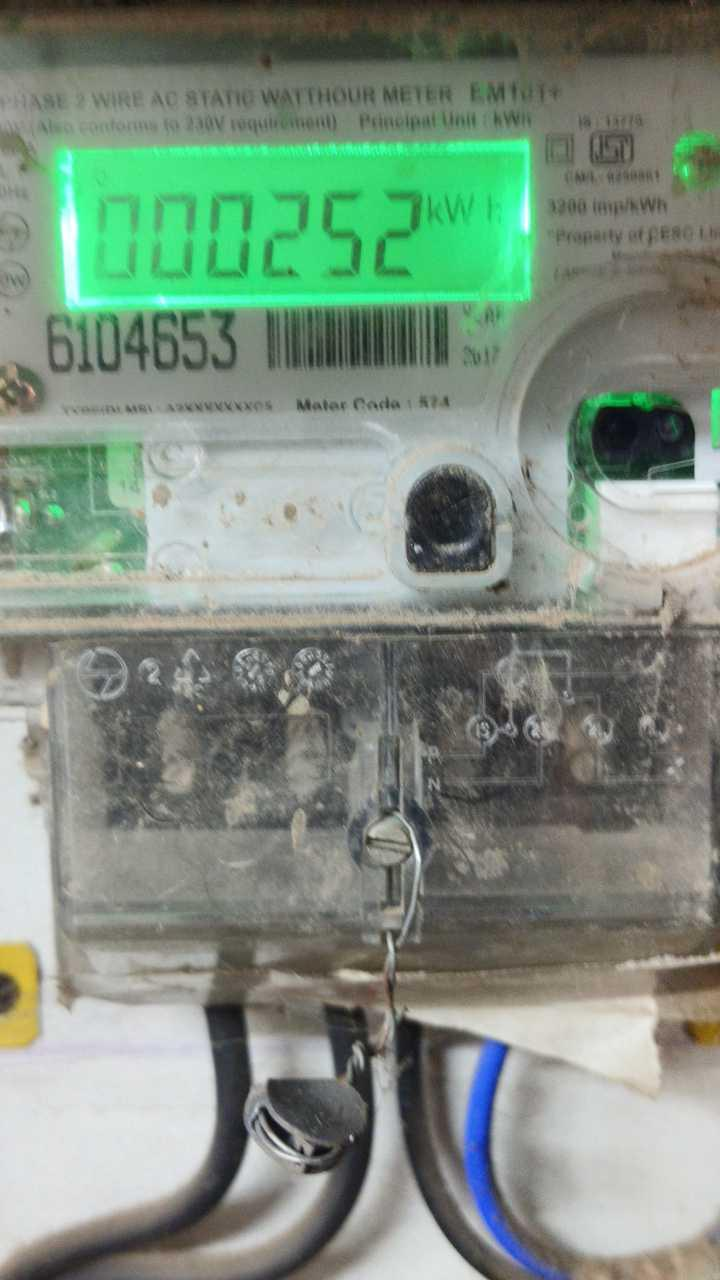meter_readings: (75, 186, 426, 284)
serial_number: (45, 308, 246, 372)
